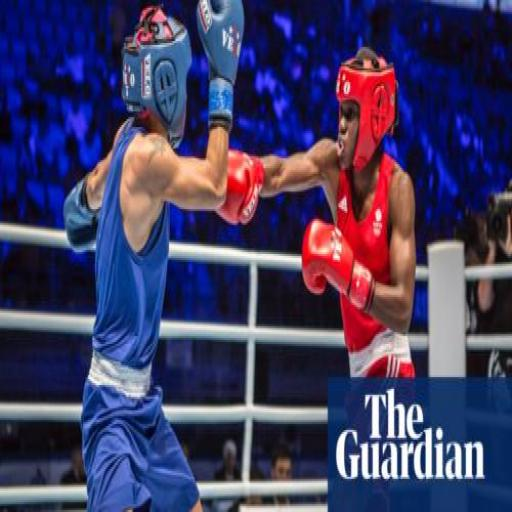boxing: (197, 25, 486, 486), (61, 0, 245, 510)
